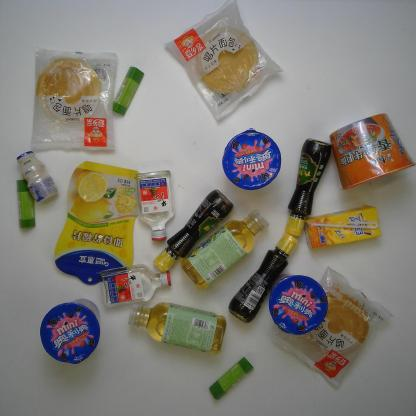Alcohol: (99, 263, 171, 308), (133, 170, 173, 244)
Dessert: (164, 1, 282, 121), (278, 267, 392, 390), (29, 47, 118, 151), (39, 300, 107, 364), (270, 274, 328, 337), (223, 132, 281, 192)
Dried Fruit: (57, 162, 133, 284)
Drink: (183, 206, 268, 293), (128, 304, 236, 354), (305, 205, 381, 249)
Instant Noodles: (329, 112, 416, 191)
Milk: (14, 150, 56, 202)
Seasoner: (229, 233, 305, 322), (154, 189, 233, 271), (288, 137, 330, 236)
Stationery: (208, 357, 252, 401), (113, 66, 150, 116), (14, 177, 36, 226)
